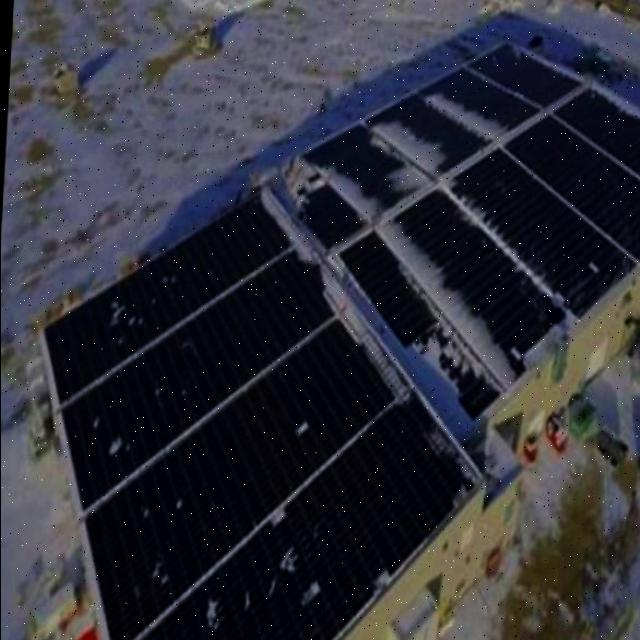Anomaly Solar Panel: (79, 301, 411, 640), (124, 384, 485, 640), (54, 236, 351, 504), (33, 181, 303, 400), (323, 220, 511, 433), (377, 184, 572, 380), (436, 143, 636, 320), (297, 118, 430, 219), (358, 88, 492, 179), (256, 152, 375, 252), (411, 64, 539, 141), (543, 81, 640, 180), (458, 39, 583, 109)
Normal Solar Panel: (498, 111, 640, 265)
Snow: (238, 169, 478, 494), (366, 206, 522, 413), (427, 173, 570, 311), (268, 145, 391, 230), (397, 322, 485, 432), (352, 103, 453, 192), (404, 77, 508, 163), (95, 268, 171, 338), (501, 44, 583, 85), (578, 80, 640, 127), (206, 580, 252, 628), (282, 572, 328, 612), (142, 548, 182, 586), (256, 498, 296, 530), (100, 416, 130, 456), (270, 540, 302, 574), (281, 414, 317, 442), (364, 558, 392, 590)
